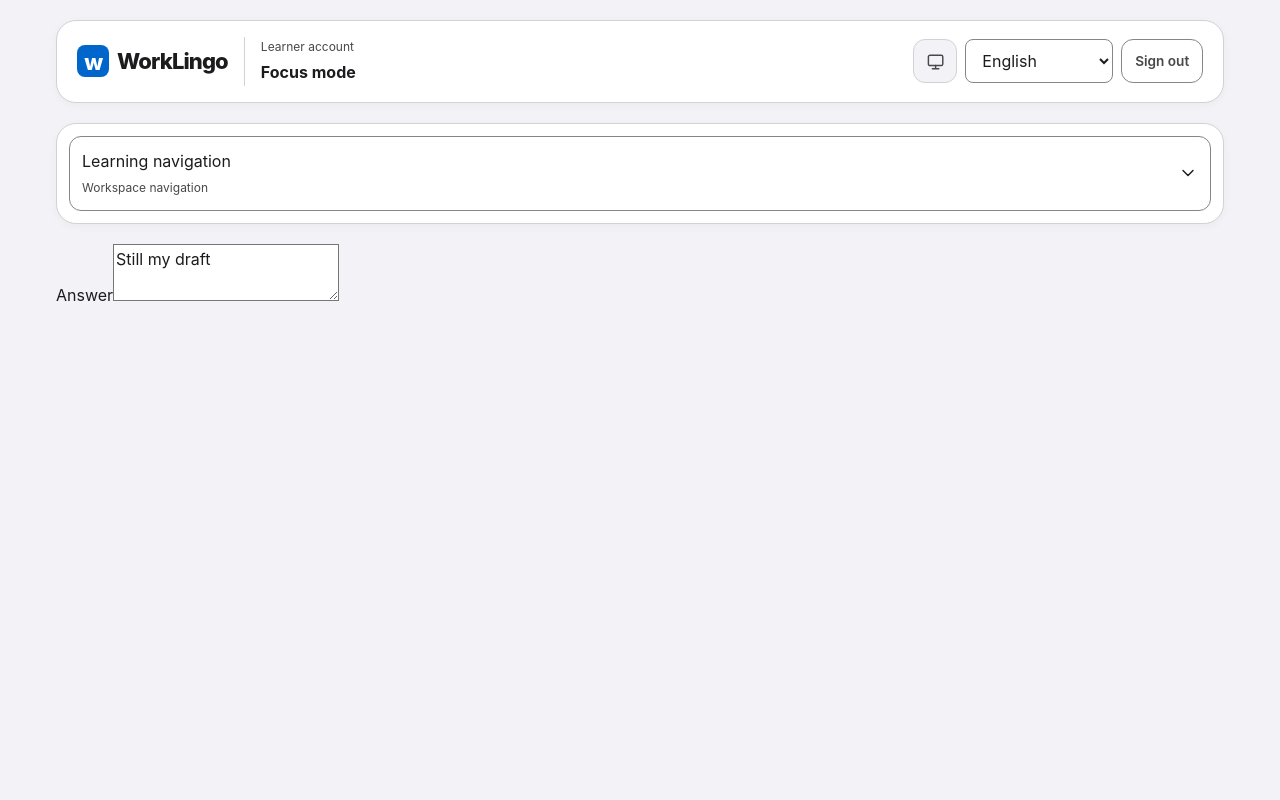
Test: LearnerLayout › reduces shell chrome on /sessions/session-id without changing the destination
expect the text "Focus mode" is shown: met, box left=261, top=60, right=356, bottom=86
Click the button "Learning navigation Workspace navigation" at (156, 161), box left=69, top=136, right=1211, bottom=211
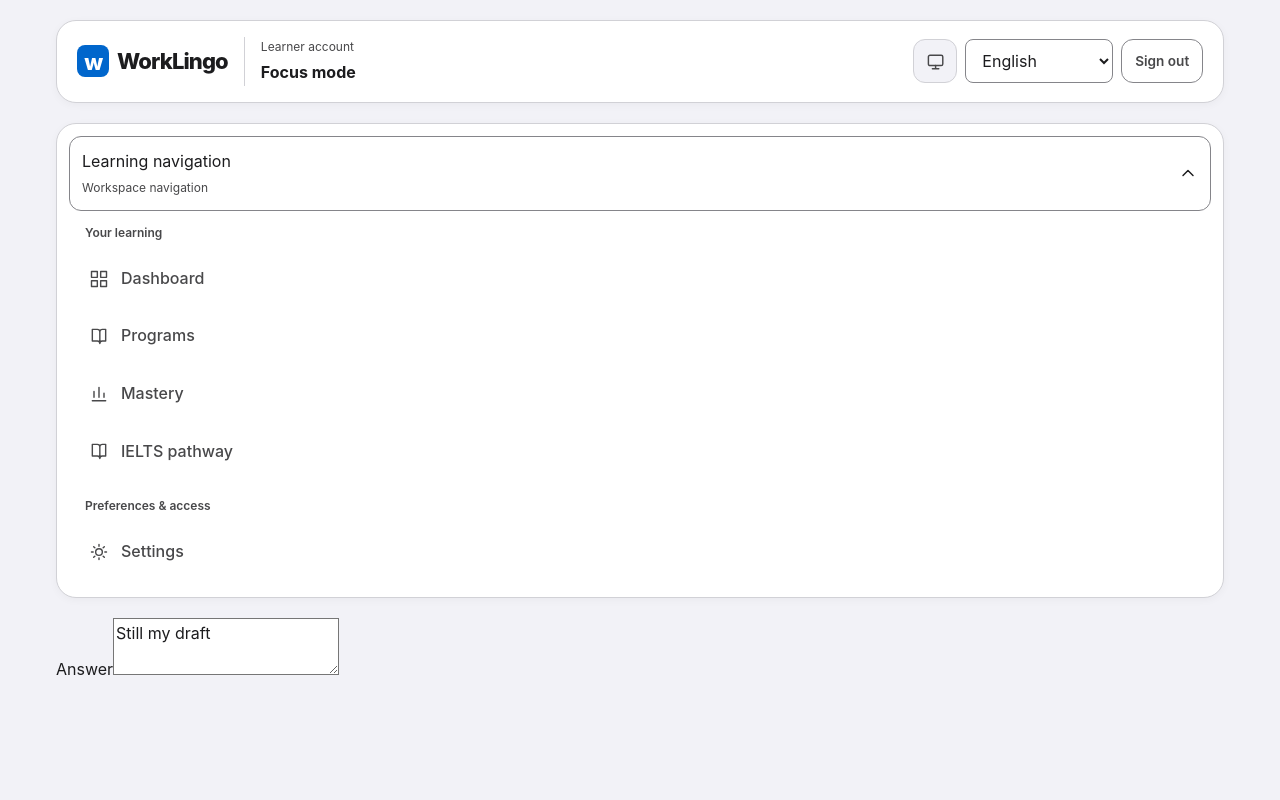
Press Escape in the button "Learning navigation Workspace navigation", box left=69, top=136, right=1211, bottom=211
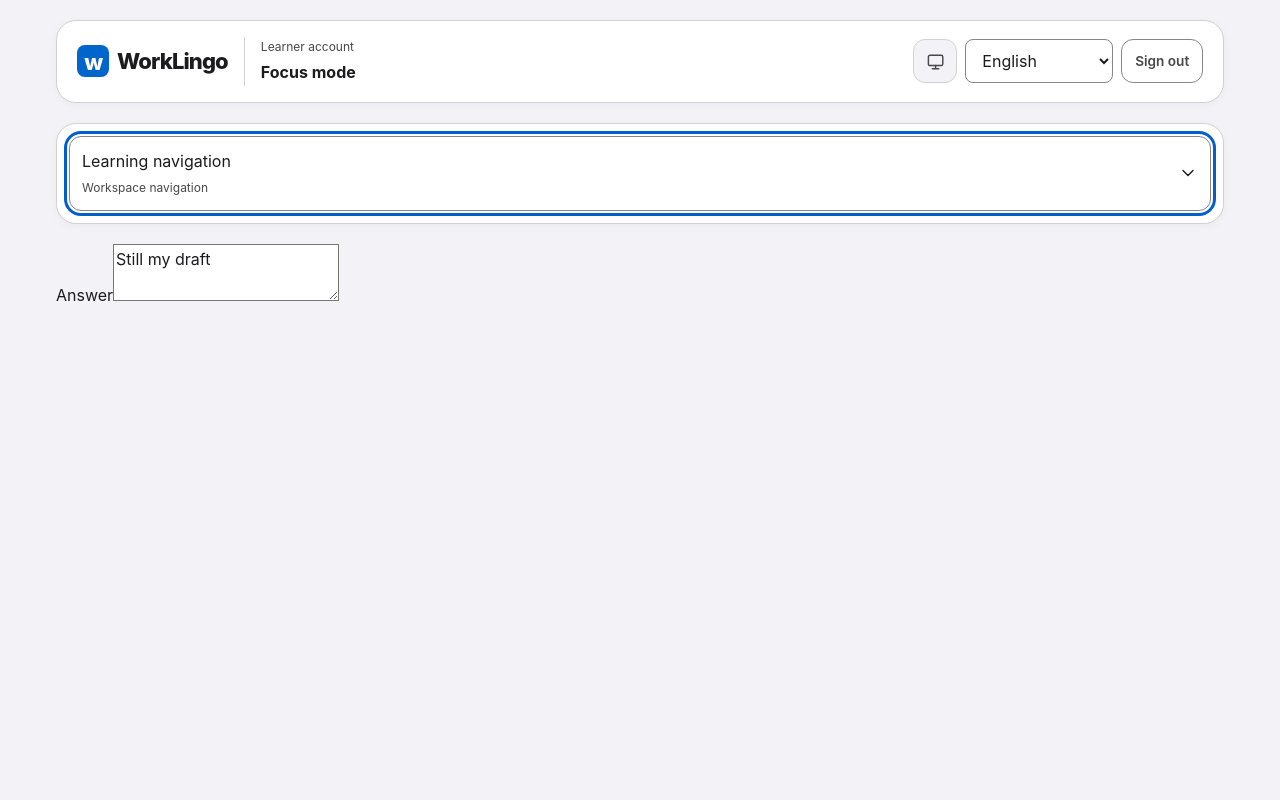
expect the text box holds "Still my draft": met, box left=113, top=244, right=339, bottom=301
expect the button "Learning navigation Workspace navigation" is collapsed: met, box left=69, top=136, right=1211, bottom=211
